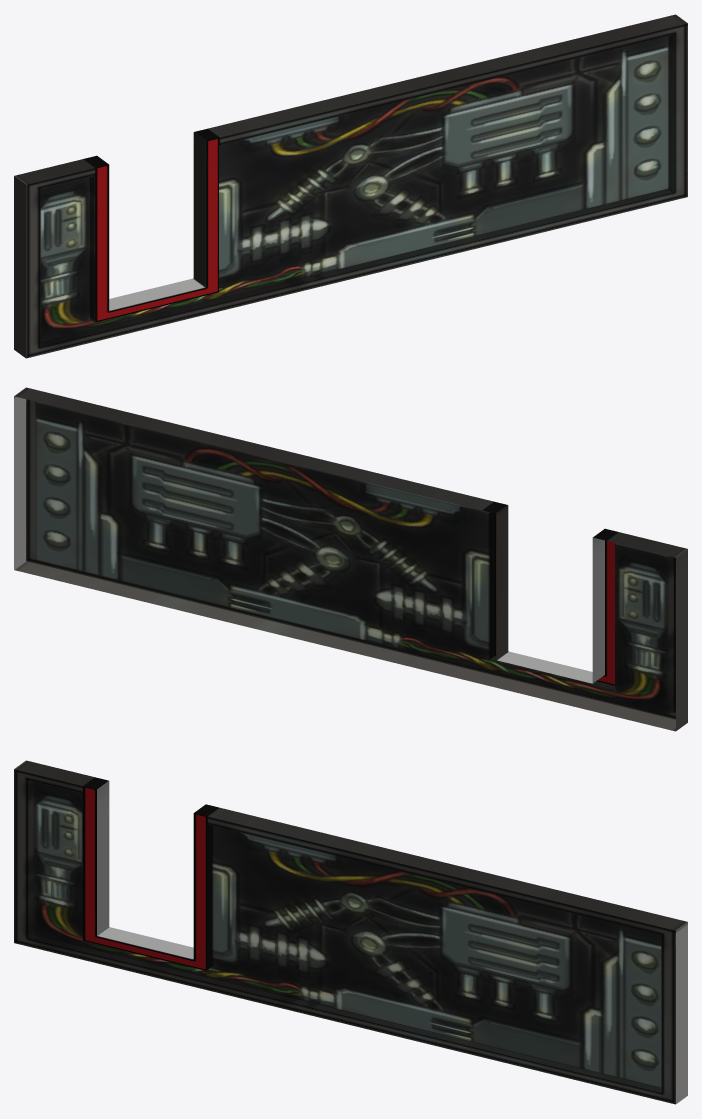
Rendered from JUMP_LEFT.fbx.
The picture shows the model from 3 angles, top to bottom: view 1: azimuth 30°, elevation 25°; view 2: azimuth 150°, elevation 25°; view 3: azimuth 330°, elevation 25°; orthographic projection.
Visible parts, largest first — view 1: wall7; view 2: wall7; view 3: wall7.
Boxes of the visible parts, box(x1,y1,x2,y2) form: wall7: box(14, 14, 687, 358); wall7: box(14, 387, 687, 731); wall7: box(14, 760, 687, 1104).
Bounding box in the file's own units: 40.08 × 10.06 × 1.27.
Materials: 1 (1 with a texture image).
